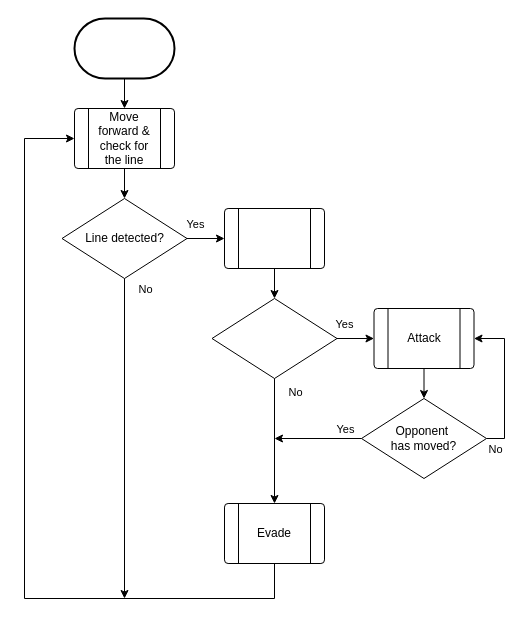
The diagram is 530 pixels wide and 624 high, and some of its shapes have lost their labels. The box of each missing label's shape, as (x1, y1, x2, y2) in pixels:
Opponent detected?: (211, 298, 337, 378)
Stop & search for opponent: (224, 208, 324, 268)
void loop() begin: (73, 17, 175, 79)
